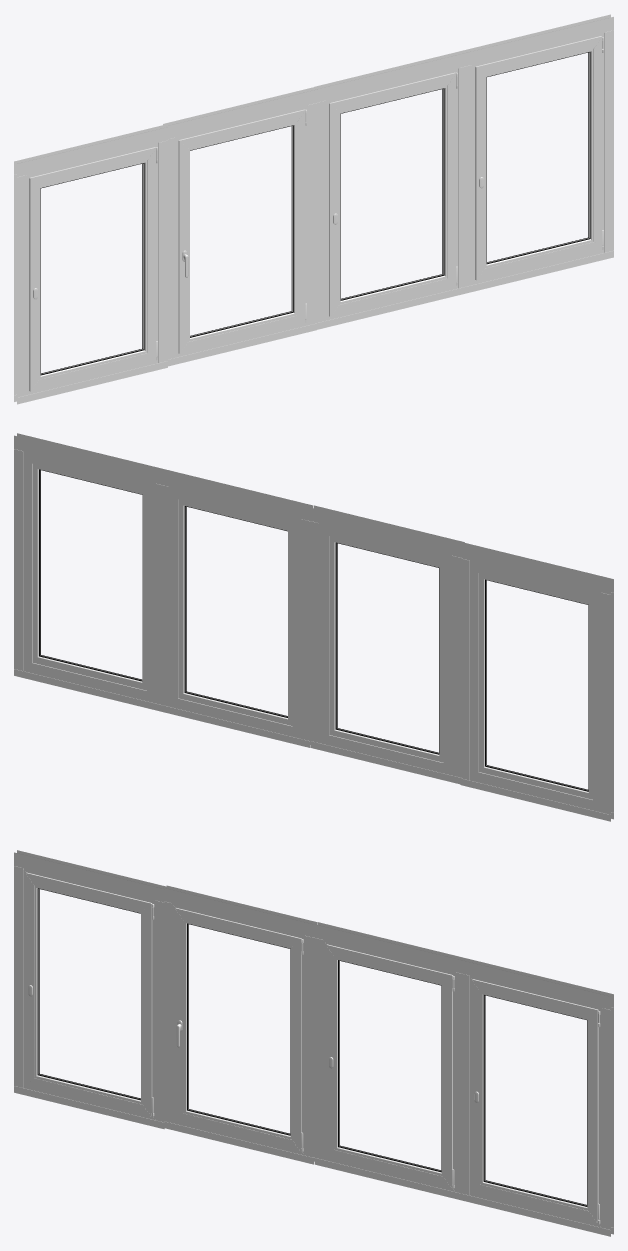
File: FrontWall.glb
3 views of the same model, one above another, from view 1: azimuth 30°, elevation 25°; view 2: azimuth 150°, elevation 25°; view 3: azimuth 330°, elevation 25° (orthographic).
Parts seen in each view (by area): view 1: #WIN0003_Frame_#WIN0003_Textures_0.006, #WIN0003_Frame_#WIN0003_Textures_0.002, #WIN0003_Frame, #WIN0003_Frame_#WIN0003_Textures_0.004, #WIN0003_Window_#WIN0003_Textures_0.002, #WIN0003_Window_#WIN0003_Textures_0.004, #WIN0003_Window_#WIN0003_Textures_0.006, #WIN0003_Window; view 2: #WIN0003_Frame_#WIN0003_Textures_0.006, #WIN0003_Frame, #WIN0003_Frame_#WIN0003_Textures_0.002, #WIN0003_Frame_#WIN0003_Textures_0.004, #WIN0003_Window, #WIN0003_Window_#WIN0003_Textures_0.002, #WIN0003_Window_#WIN0003_Textures_0.006, #WIN0003_Window_#WIN0003_Textures_0.004; view 3: #WIN0003_Frame_#WIN0003_Textures_0.002, #WIN0003_Frame_#WIN0003_Textures_0.006, #WIN0003_Frame, #WIN0003_Frame_#WIN0003_Textures_0.004, #WIN0003_Window_#WIN0003_Textures_0.004, #WIN0003_Window_#WIN0003_Textures_0.006, #WIN0003_Window_#WIN0003_Textures_0.002, #WIN0003_Window.
Part boxes in pixels (x1,y1,x2,y2): #WIN0003_Frame_#WIN0003_Textures_0.006: (14, 124, 167, 404); #WIN0003_Frame_#WIN0003_Textures_0.002: (314, 51, 467, 329); #WIN0003_Frame: (163, 87, 317, 366); #WIN0003_Frame_#WIN0003_Textures_0.004: (460, 14, 613, 293); #WIN0003_Window_#WIN0003_Textures_0.002: (329, 72, 457, 317); #WIN0003_Window_#WIN0003_Textures_0.004: (475, 36, 603, 280); #WIN0003_Window_#WIN0003_Textures_0.006: (29, 147, 157, 391); #WIN0003_Window: (178, 109, 306, 353); #WIN0003_Frame_#WIN0003_Textures_0.006: (460, 543, 613, 821); #WIN0003_Frame: (310, 505, 464, 784); #WIN0003_Frame_#WIN0003_Textures_0.002: (159, 469, 313, 747); #WIN0003_Frame_#WIN0003_Textures_0.004: (14, 433, 166, 712); #WIN0003_Window: (329, 536, 443, 762); #WIN0003_Window_#WIN0003_Textures_0.002: (178, 499, 292, 725); #WIN0003_Window_#WIN0003_Textures_0.006: (478, 573, 592, 799); #WIN0003_Window_#WIN0003_Textures_0.004: (32, 464, 146, 690); #WIN0003_Frame_#WIN0003_Textures_0.002: (314, 922, 468, 1201); #WIN0003_Frame_#WIN0003_Textures_0.006: (14, 850, 167, 1129); #WIN0003_Frame: (163, 885, 317, 1164); #WIN0003_Frame_#WIN0003_Textures_0.004: (460, 958, 613, 1236); #WIN0003_Window_#WIN0003_Textures_0.004: (471, 979, 599, 1223); #WIN0003_Window_#WIN0003_Textures_0.006: (25, 872, 153, 1116); #WIN0003_Window_#WIN0003_Textures_0.002: (326, 944, 454, 1188); #WIN0003_Window: (175, 908, 303, 1151).
Size of the model in its own units: 6.9 by 2.66 by 0.1331.
1 material, 1 textured.
